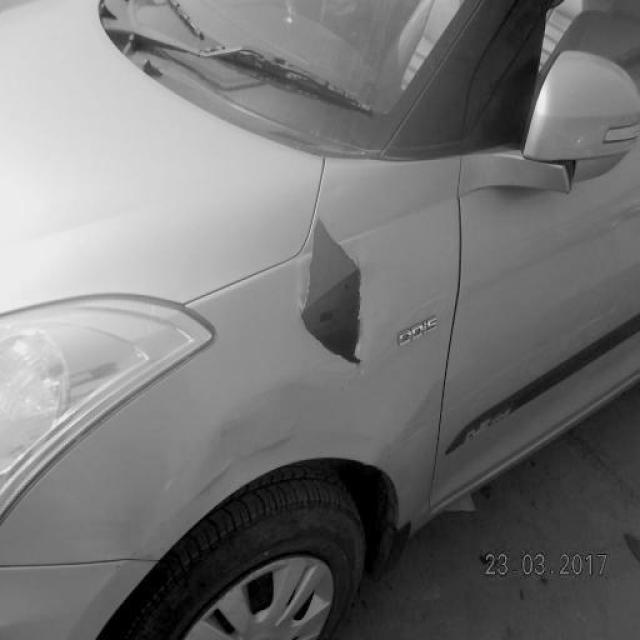car damage: (301, 215, 365, 371)
